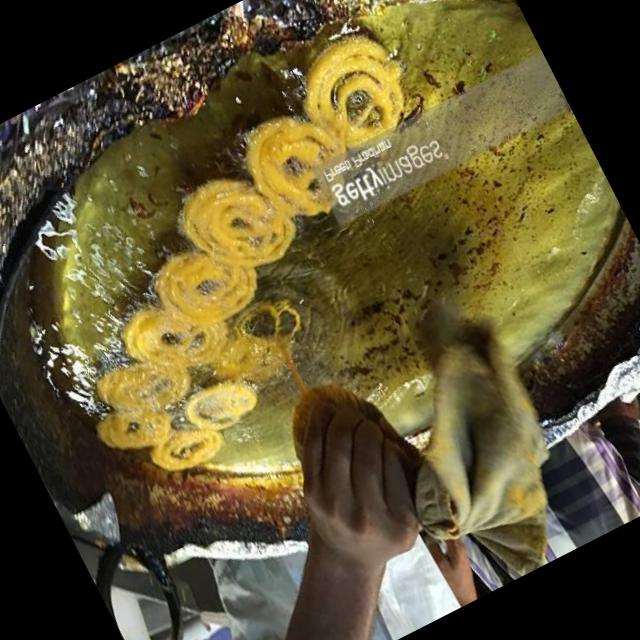jalebi: (118, 15, 466, 322), (70, 238, 328, 502)
